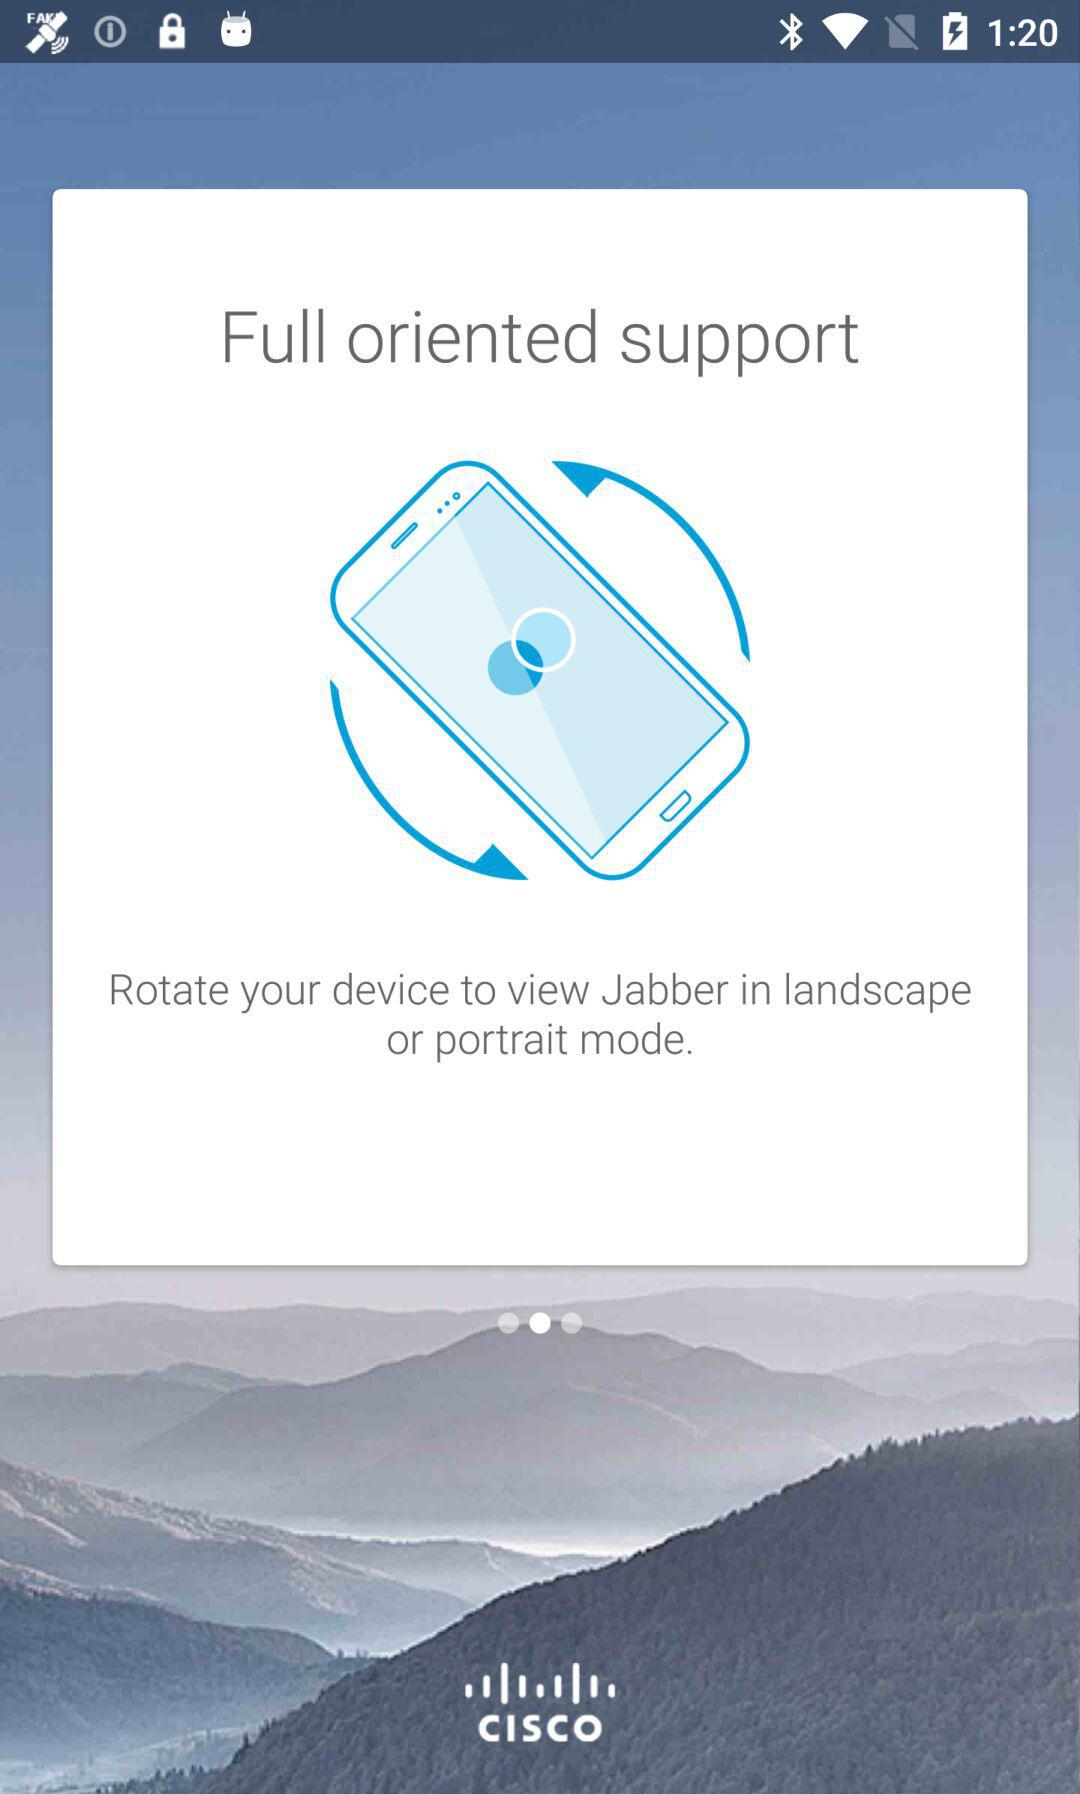BackgroundImage: (1, 64, 1080, 1794)
Card: (51, 188, 1029, 1267)
Image: (329, 460, 751, 882), (462, 1659, 616, 1745)
PageIndicator: (497, 1311, 584, 1337)
Text: (111, 973, 972, 1064), (225, 308, 860, 379)
UpperTaskBar: (1, 1, 1080, 64)
